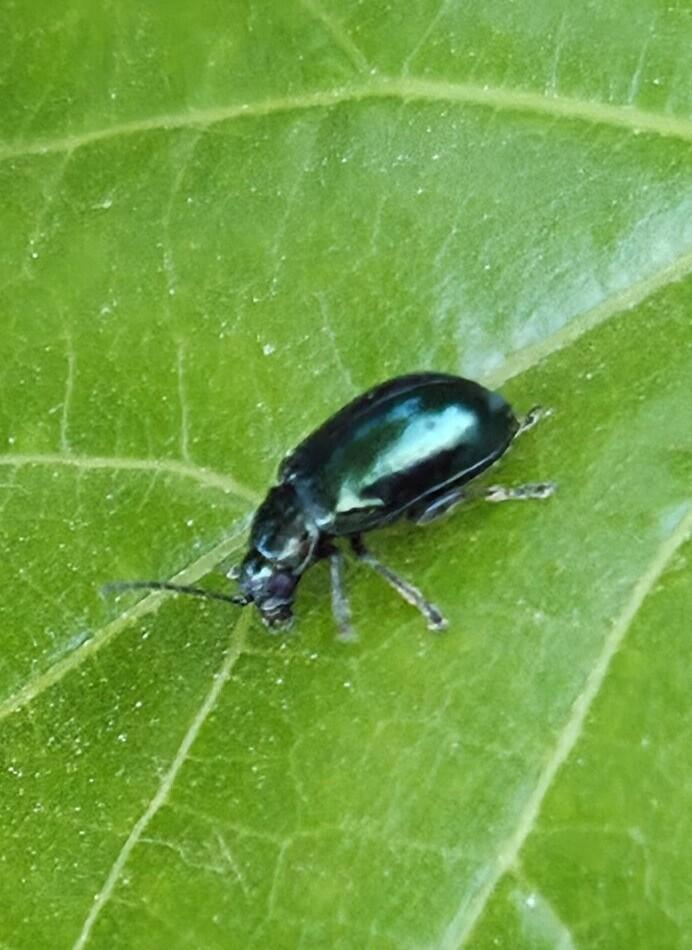flea_beetle: (65, 307, 634, 667)
